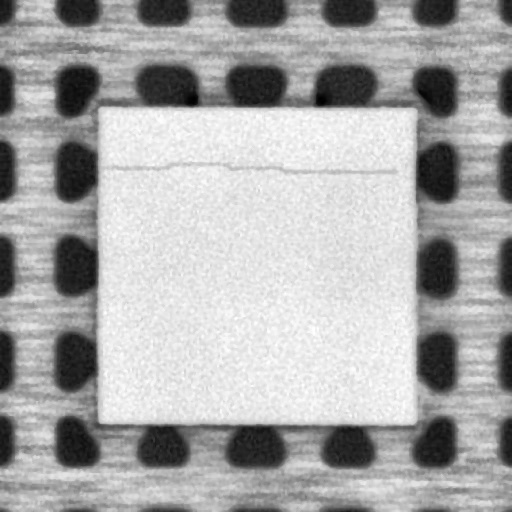DIE_CRACK: (106, 154, 398, 178)
